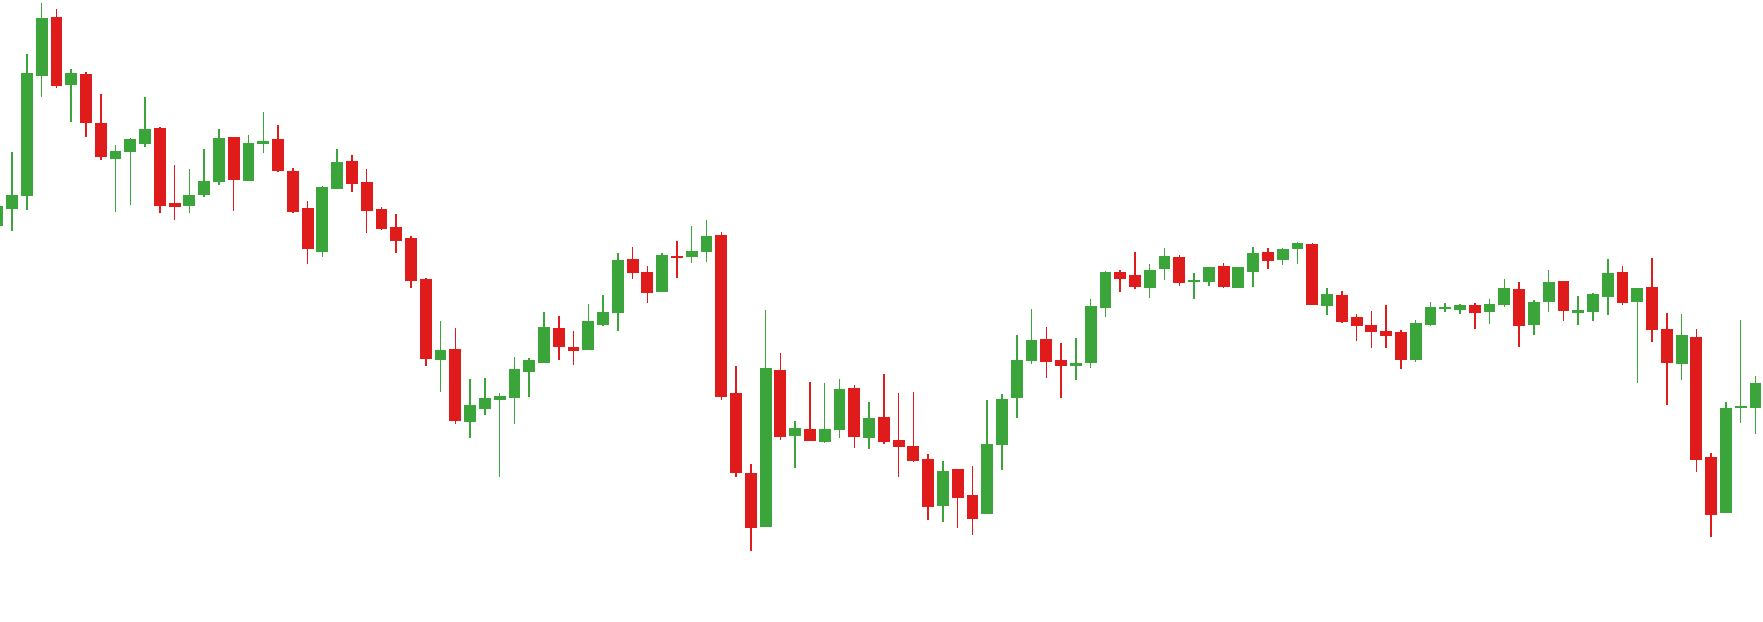buy: (492, 355, 776, 553)
